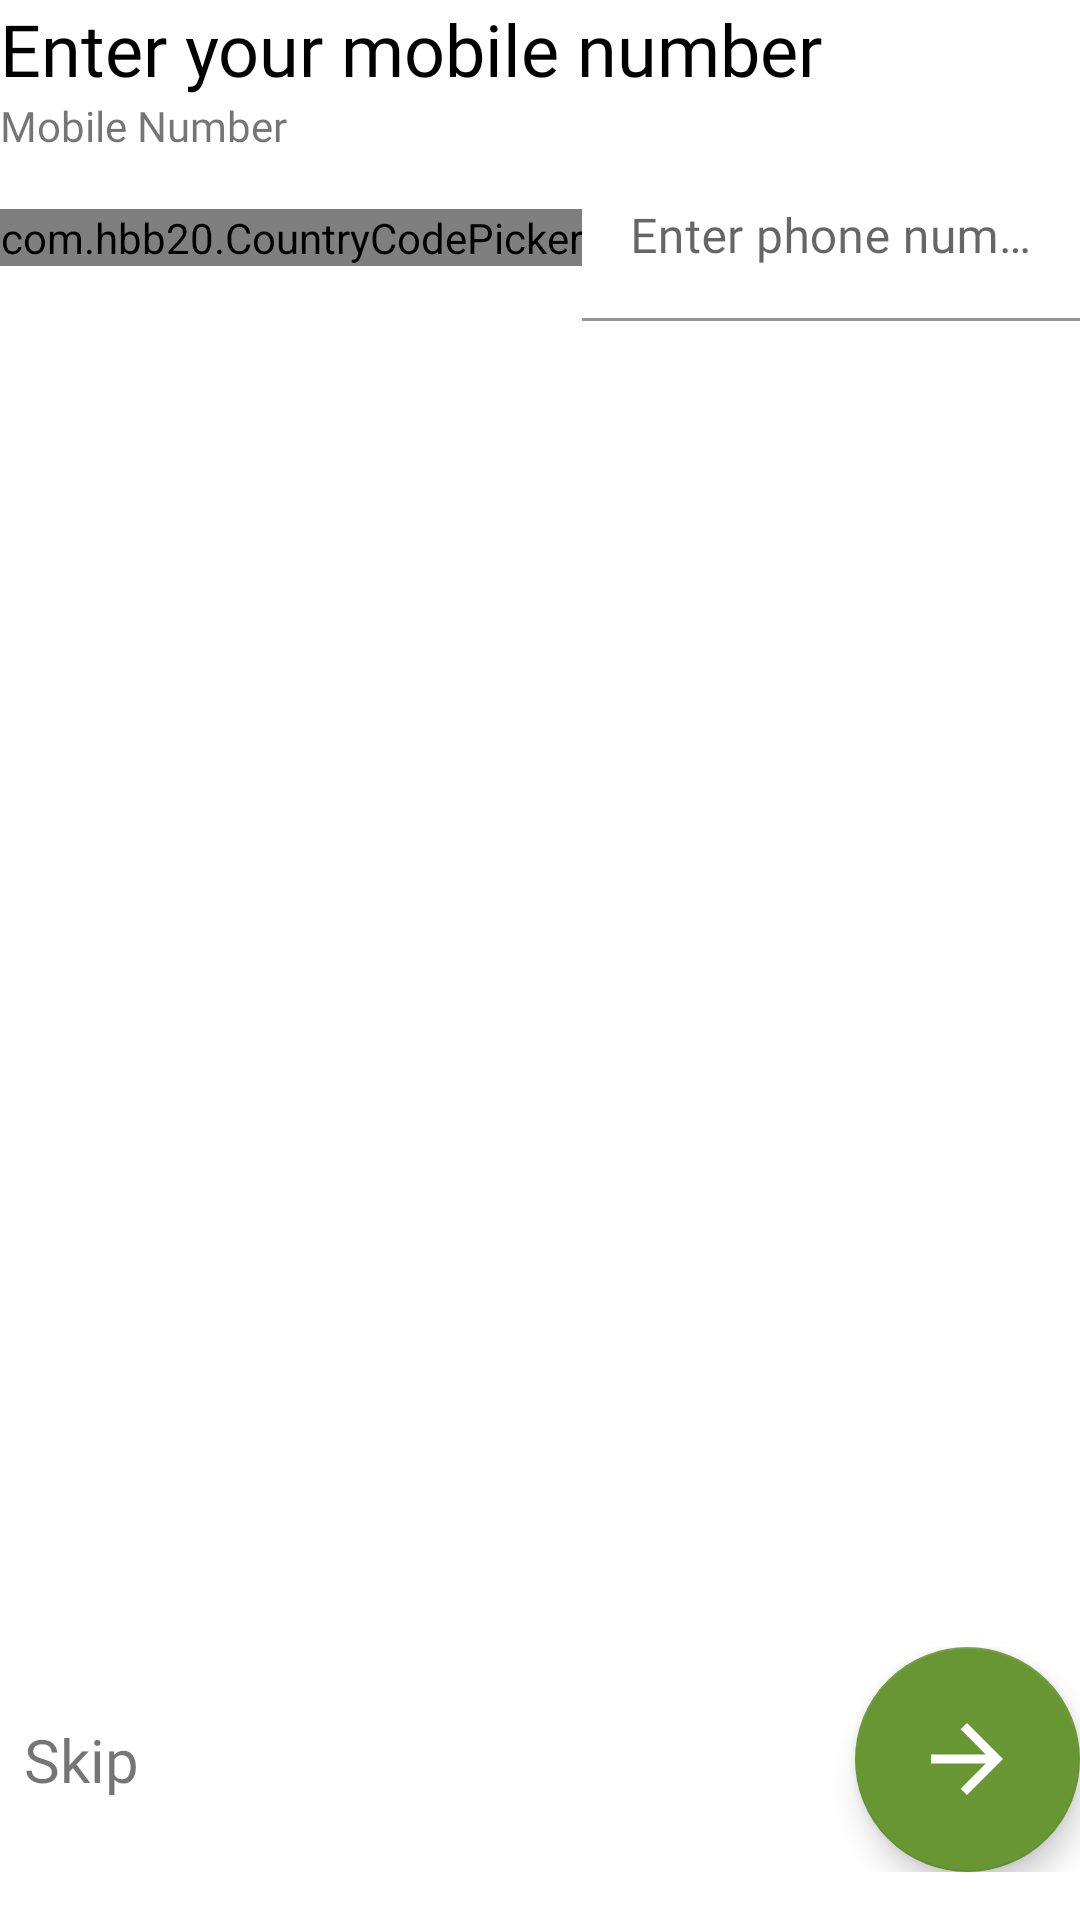

Named icons in this screenshot (1080px×1920px) and their centers, (x,y):
Continue: (967,1759)
